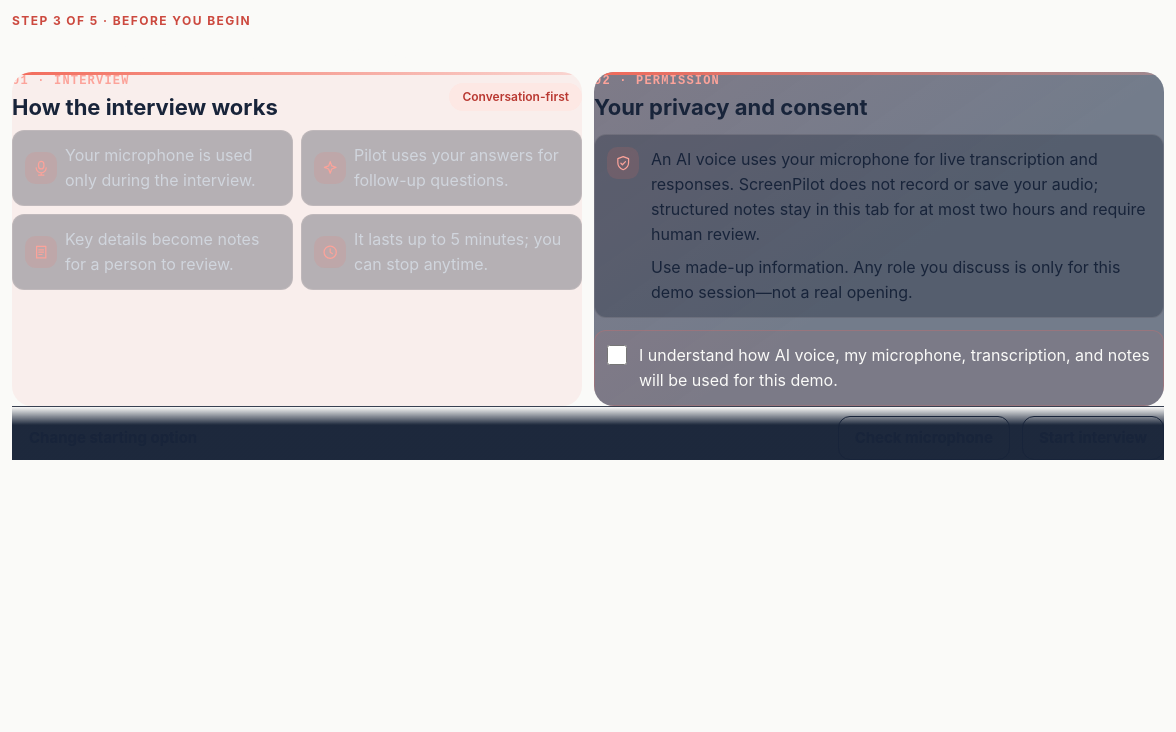
shared voice preflight › offers recovery for permission_denied microphone failures
Click the checkbox labelled "I understand how AI voice, my microphone, transcription, and notes will be used": point(617, 355) [607,345,627,365]
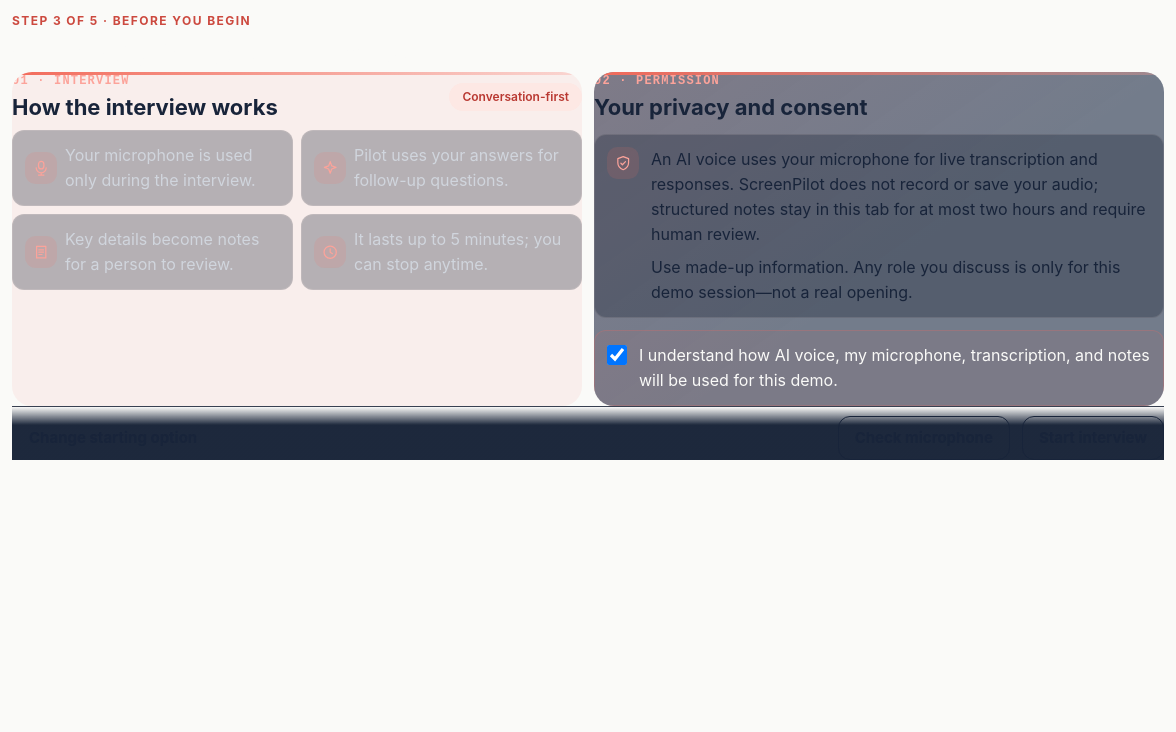
Click the button "Check microphone": point(924, 438) [838,416,1010,460]
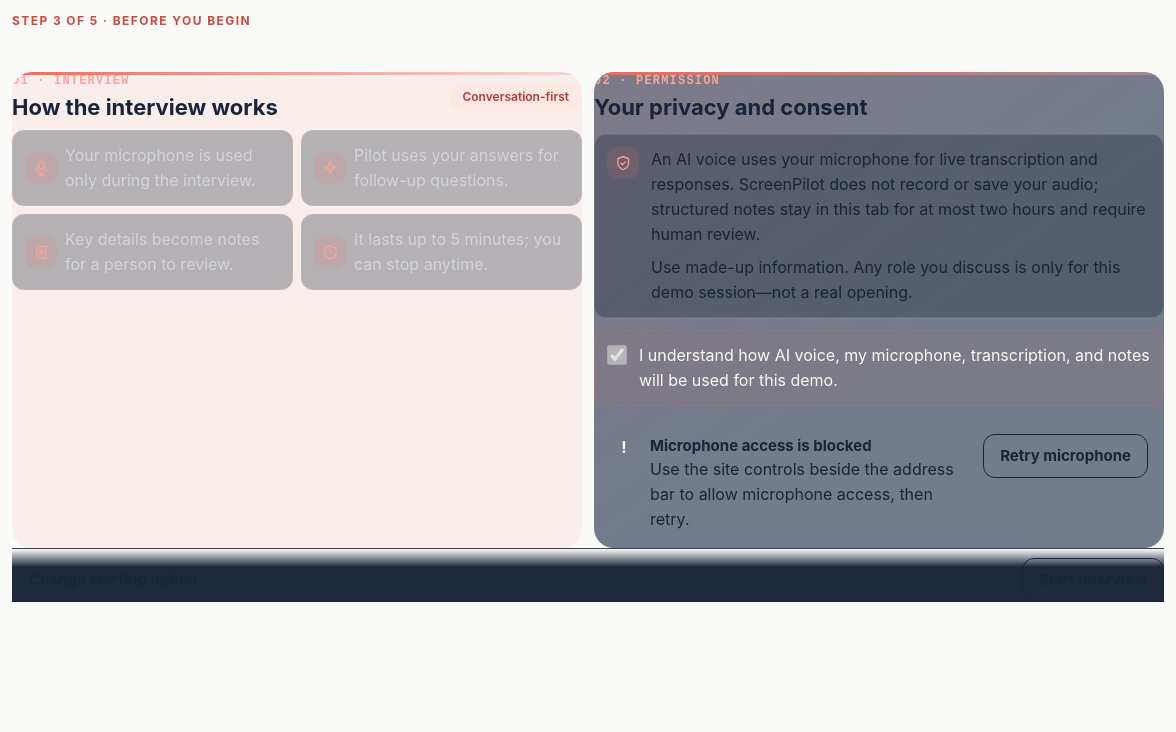
expect the button "Start interview" is disabled: met, box [1022,558,1164,602]
expect the heading "Microphone access is blocked" is shown: met, box [650,436,872,455]
expect the text "address bar" is shown: met, box [650,459,954,529]
Click the button "Retry microphone": point(1066, 456) [983,434,1148,478]
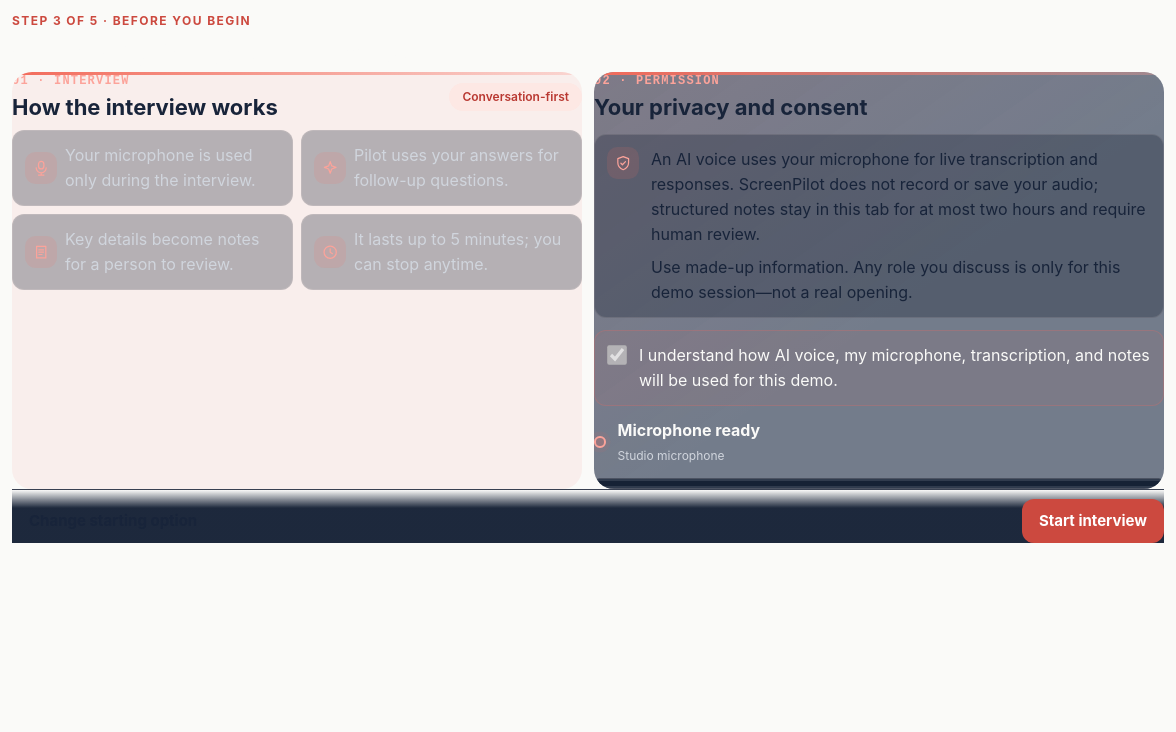
expect the text "Studio microphone" is shown: met, box [618,448,725,463]
